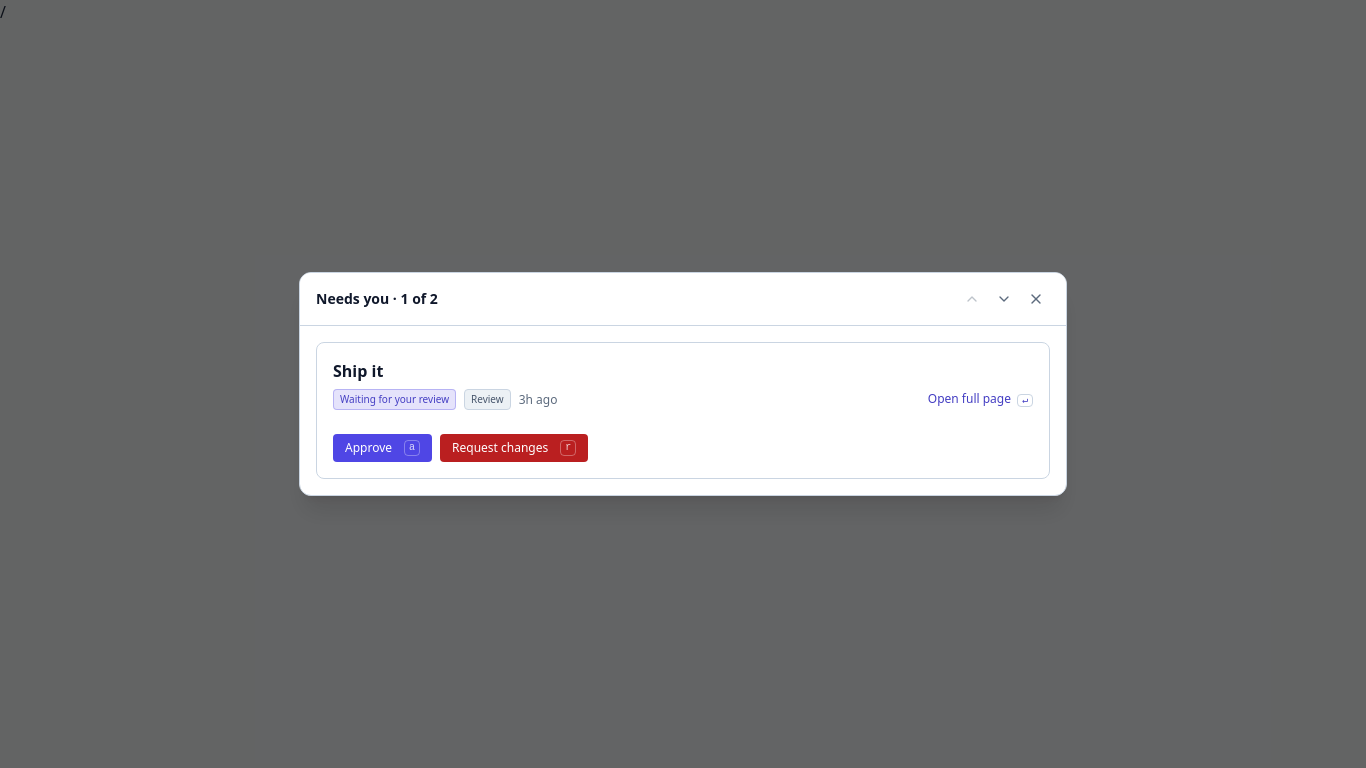
Test: ReviewPopup › shows an action error inline
Click the button "Approve a" at (382, 448), box [333,434,432,462]
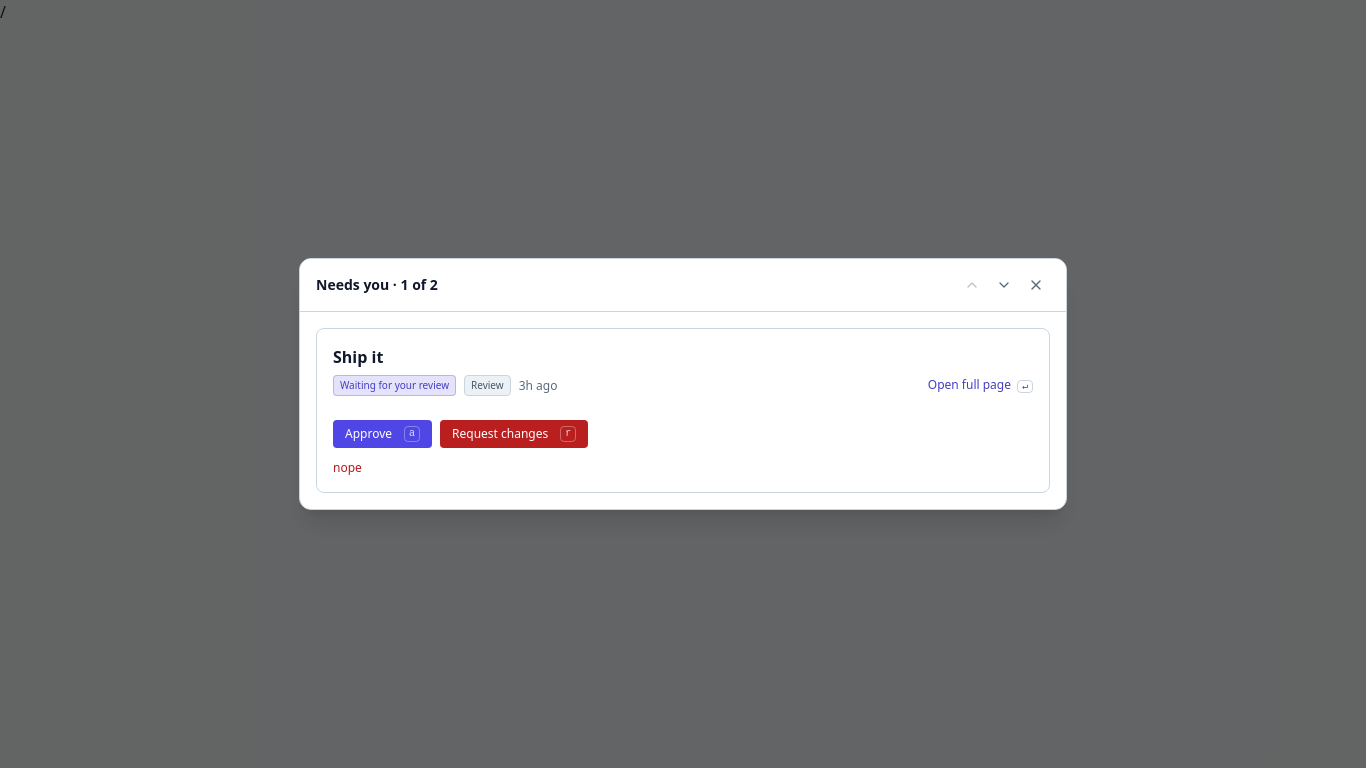
expect the message reads "nope": met, box [333,459,362,476]
